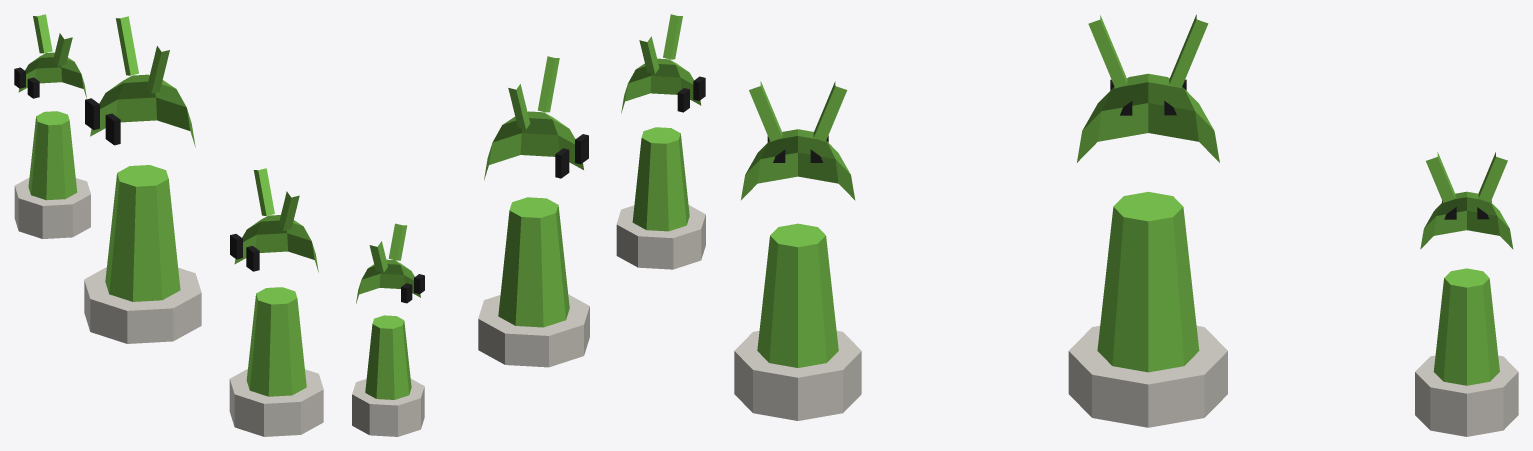
Rendered from chopsticks_aliens.glb.
3 views of the same model, side by side, from view 1: azimuth 30°, elevation 25°; view 2: azimuth 150°, elevation 25°; view 3: azimuth 270°, elevation 25° (orthographic). The views are drawn at different scales.
Visible parts, largest first — view 1: chopsticks_aliens_lod0; view 2: chopsticks_aliens_lod0; view 3: chopsticks_aliens_lod0.
Part boxes in pixels (x1,y1,x2,y2): chopsticks_aliens_lod0: [14, 14, 323, 436]; chopsticks_aliens_lod0: [352, 14, 705, 436]; chopsticks_aliens_lod0: [734, 14, 1518, 436].
Size of what is drawn, in the model's own units: 1.12 by 2.62 by 4.92.
